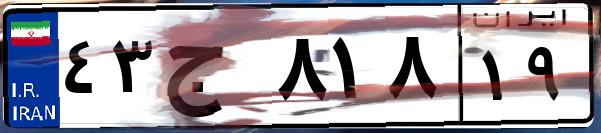1: (330, 28, 385, 110), (475, 38, 525, 113)
3: (110, 28, 158, 98)
4: (57, 26, 110, 100)
8: (270, 28, 330, 110), (385, 28, 445, 110)
9: (525, 38, 570, 115)
ج: (158, 20, 270, 120)
